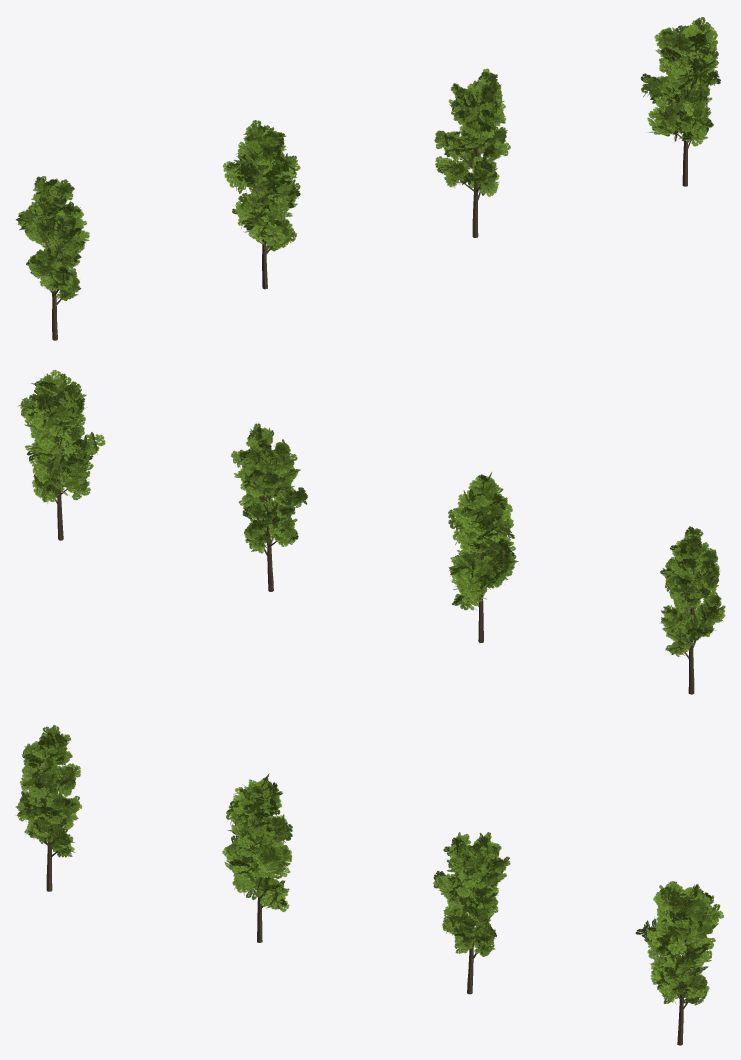
The model's file is tree_ginkgo.glb.
3 renders of one model, top to bottom at view 1: azimuth 30°, elevation 25°; view 2: azimuth 150°, elevation 25°; view 3: azimuth 330°, elevation 25°, orthographic.
Parts seen in each view (by area): view 1: v1_lo_leaf, v0_lo_leaf, v1_hi_leaf, v0_hi_leaf; view 2: v1_lo_leaf, v0_lo_leaf, v1_hi_leaf, v0_hi_leaf; view 3: v1_lo_leaf, v0_lo_leaf, v1_hi_leaf, v0_hi_leaf.
Part boxes in pixels (x1,y1,x2,y2): v1_lo_leaf: (640, 17, 720, 146); v0_lo_leaf: (222, 120, 300, 254); v1_hi_leaf: (434, 68, 510, 196); v0_hi_leaf: (16, 176, 89, 300); v1_lo_leaf: (17, 370, 105, 503); v0_lo_leaf: (448, 472, 518, 610); v1_hi_leaf: (231, 423, 307, 553); v0_hi_leaf: (660, 526, 725, 656); v1_lo_leaf: (635, 881, 723, 1005); v0_lo_leaf: (222, 773, 292, 911); v1_hi_leaf: (433, 832, 510, 956); v0_hi_leaf: (15, 725, 82, 857).
Size of the model in its own units: 66.93 by 15.12 by 7.67.
Materials: 2 (2 with a texture image).
